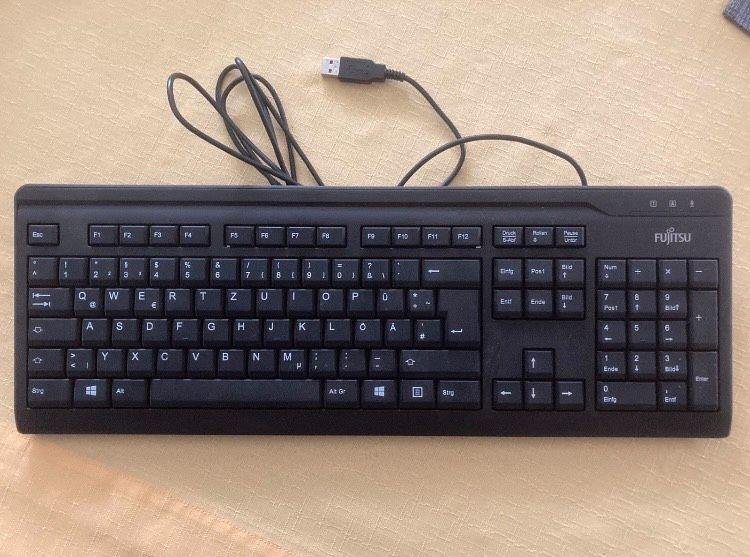0: (330, 257, 357, 282)
1: (57, 256, 85, 283)
2: (88, 255, 115, 282)
3: (118, 255, 145, 282)
4: (148, 256, 175, 282)
5: (178, 256, 205, 282)
6: (208, 256, 236, 283)
7: (240, 256, 267, 283)
8: (270, 257, 297, 283)
9: (300, 257, 327, 282)
a: (80, 316, 107, 343)
accent: (390, 257, 418, 283)
ae: (383, 317, 410, 344)
alt-left: (109, 377, 145, 405)
altgr-right: (322, 377, 357, 406)
b: (215, 347, 243, 373)
c: (155, 347, 182, 372)
caret: (25, 255, 54, 283)
comma: (307, 347, 334, 373)
d: (141, 317, 167, 344)
del: (420, 257, 480, 282)
e: (132, 286, 160, 313)
enter: (436, 285, 480, 346)
f: (170, 317, 198, 343)
g: (201, 317, 228, 343)
h: (231, 317, 260, 343)
hash: (413, 317, 440, 342)
i: (285, 287, 312, 313)
j: (262, 317, 290, 343)
k: (293, 317, 320, 344)
keyboard: (9, 175, 734, 438)
l: (322, 317, 349, 343)
less: (64, 346, 91, 374)
m: (277, 347, 304, 374)
minus: (367, 347, 394, 372)
n: (246, 347, 274, 373)
o: (315, 287, 342, 313)
oe: (353, 317, 380, 343)
p: (346, 287, 372, 312)
plus: (405, 287, 433, 314)
point: (337, 346, 364, 371)
q: (72, 286, 100, 314)
r: (163, 286, 190, 313)
s: (110, 316, 138, 344)
shift-left: (25, 347, 61, 375)
shift-lock: (26, 316, 77, 344)
shift-right: (398, 347, 479, 372)
space: (147, 376, 319, 405)
ss: (360, 257, 387, 282)
strg-left: (24, 377, 70, 406)
strg-right: (434, 378, 481, 407)
t: (193, 286, 220, 312)
tab: (26, 285, 69, 313)
u: (254, 287, 282, 314)
ue: (375, 286, 402, 313)
v: (186, 347, 213, 372)
w: (103, 286, 129, 311)
x: (125, 347, 151, 372)
y: (95, 346, 122, 374)
z: (224, 287, 251, 312)
